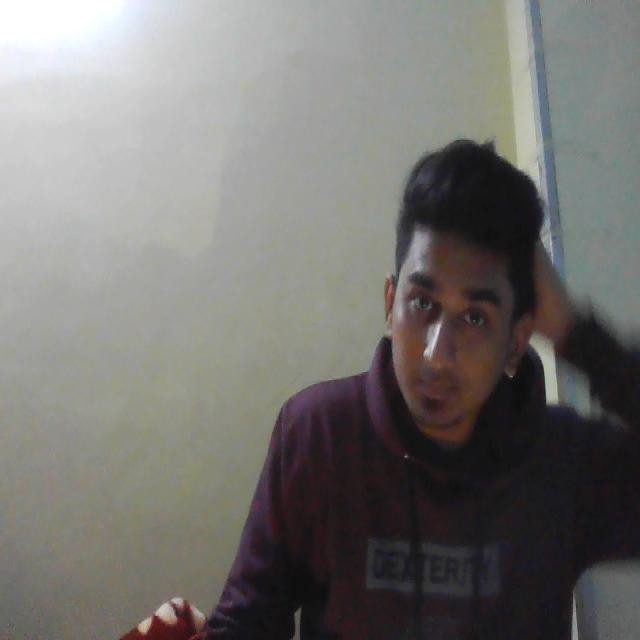real: (379, 162, 533, 454)
